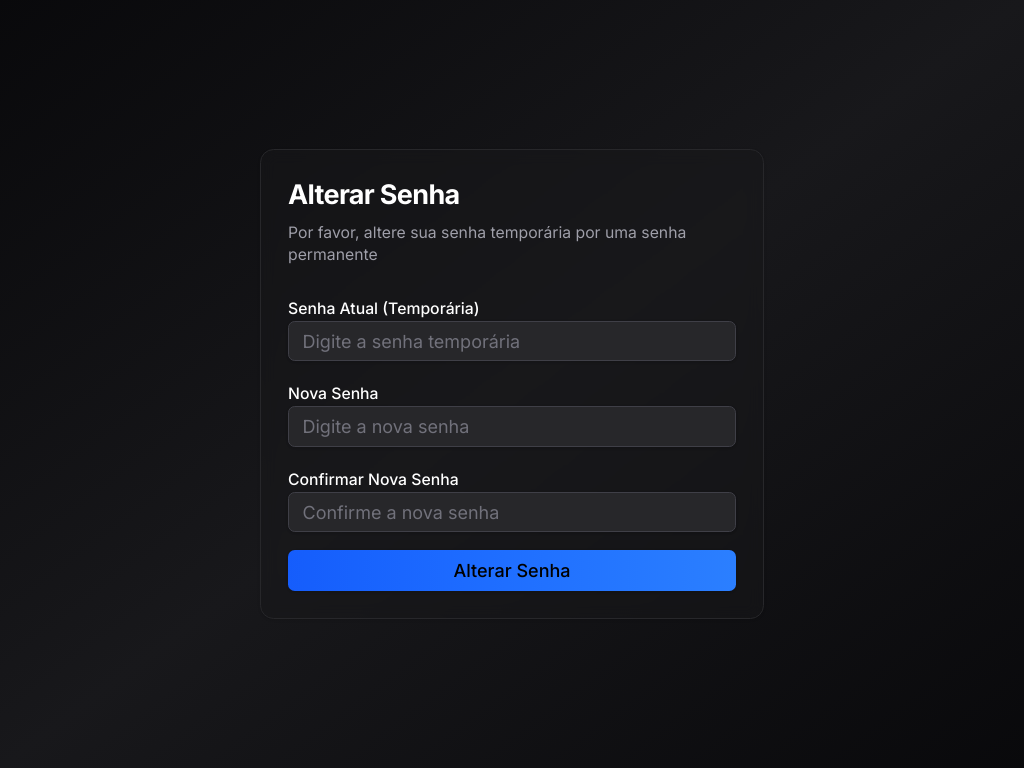
Scenario: Change Password Page › Validation › should validate empty new password
Type "Teste@123" into the password field with test id "current-password-input" at (512, 341), box [288,321,736,362]
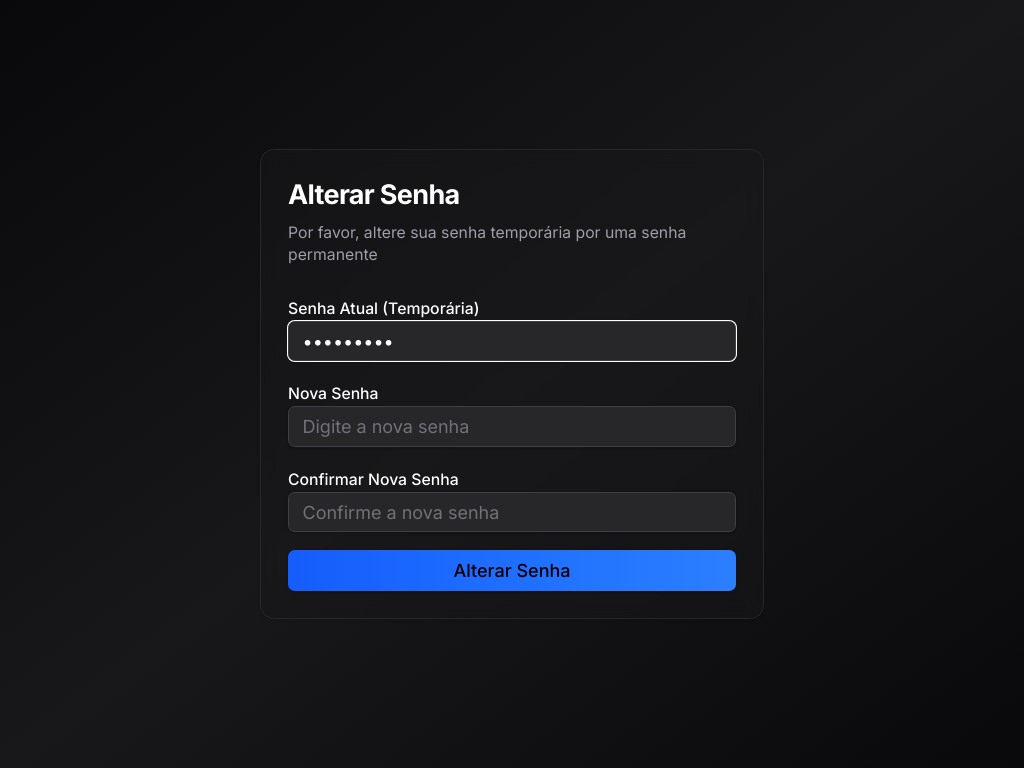
Click the button with test id "change-password-submit" at (512, 571), box [288,550,736,591]
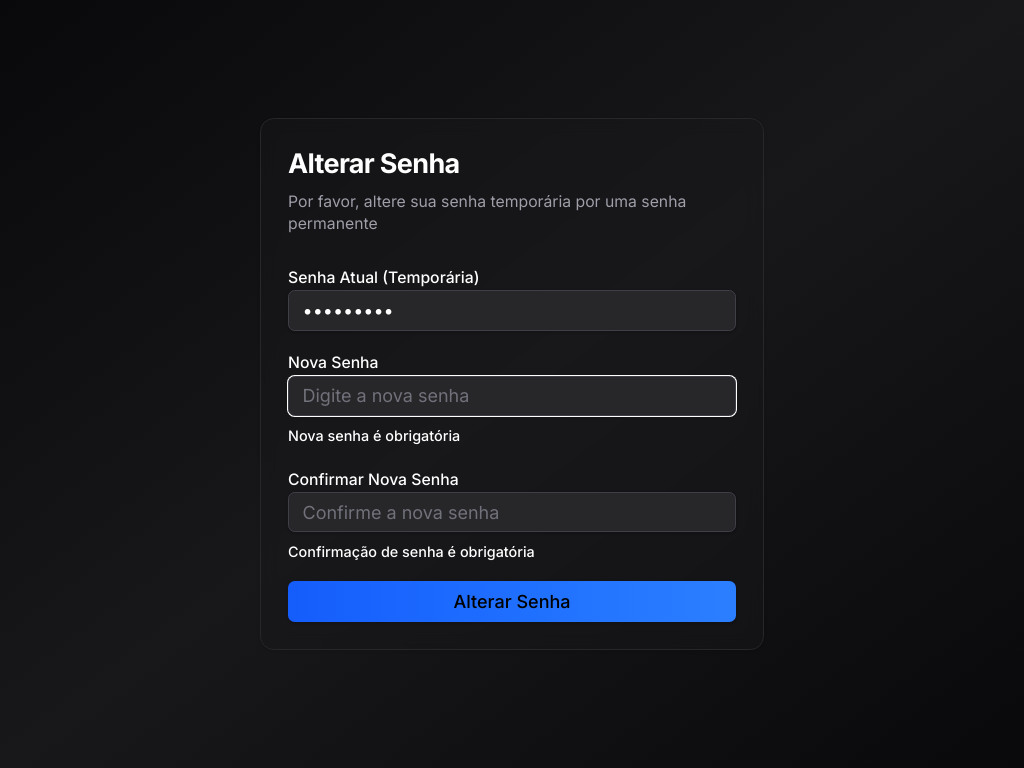
Expected: the text "Nova senha é obrigatória" is shown, [288,427,460,444]
